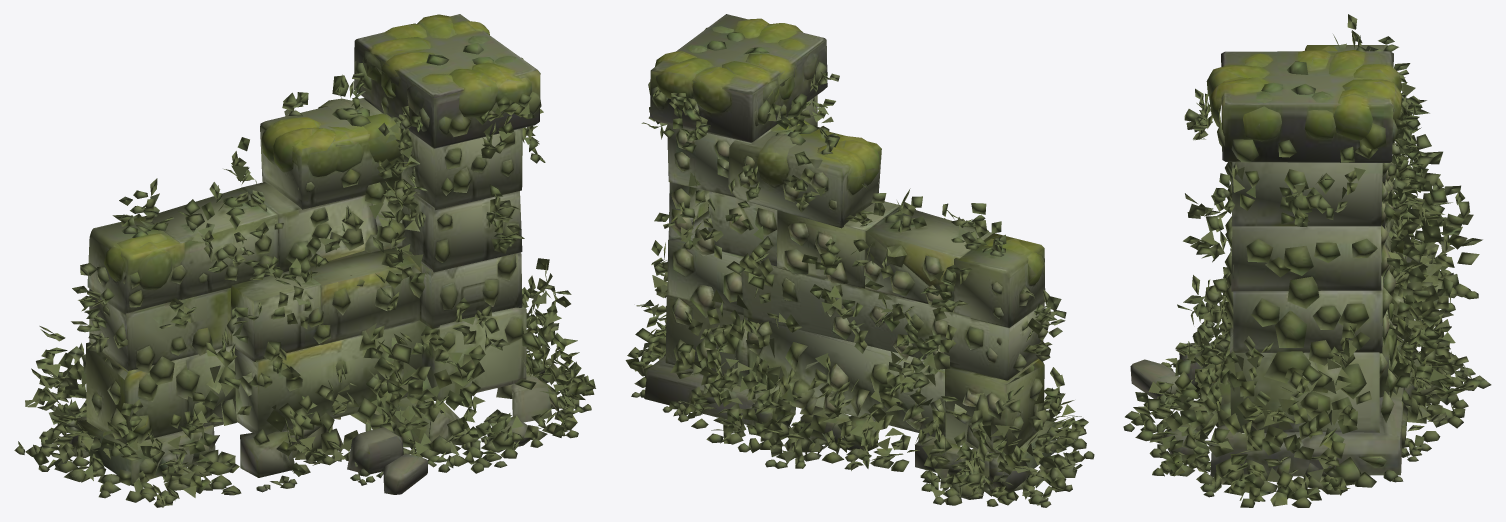
File: jd_muro_mato.glb
3 views of the same model, side by side, from view 1: azimuth 30°, elevation 25°; view 2: azimuth 150°, elevation 25°; view 3: azimuth 270°, elevation 25° (orthographic). The views are drawn at different scales.
Visible parts, largest first — view 1: mesh_node; view 2: mesh_node; view 3: mesh_node.
Part boxes in pixels (<box>): mesh_node: <box>14,14,595,507</box>; mesh_node: <box>625,14,1094,507</box>; mesh_node: <box>1123,14,1491,507</box>.
Size of the model in its own units: 1 by 0.6875 by 0.6035.
1 material, 1 textured.
